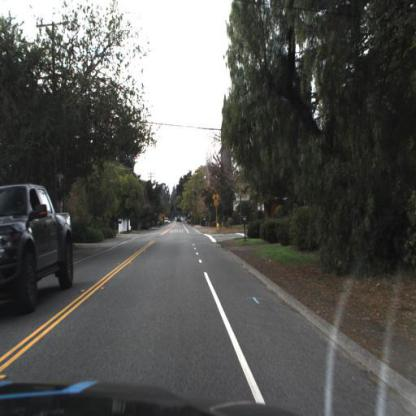car: (189, 219, 194, 225), (169, 221, 172, 225), (176, 220, 179, 223)
truck: (1, 185, 75, 316), (178, 216, 186, 224), (165, 218, 170, 225)
